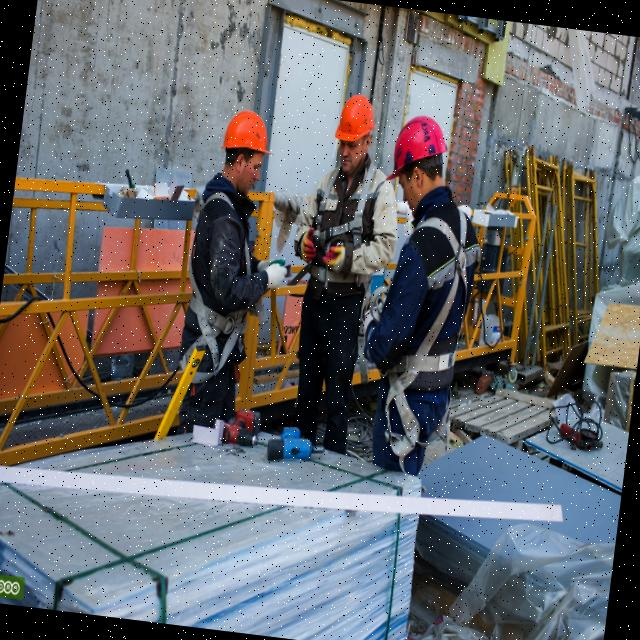Helmet: (385, 111, 454, 192), (221, 109, 278, 173), (333, 92, 379, 153)
NoJacket: (391, 194, 479, 388), (186, 171, 267, 365), (306, 157, 388, 294)
